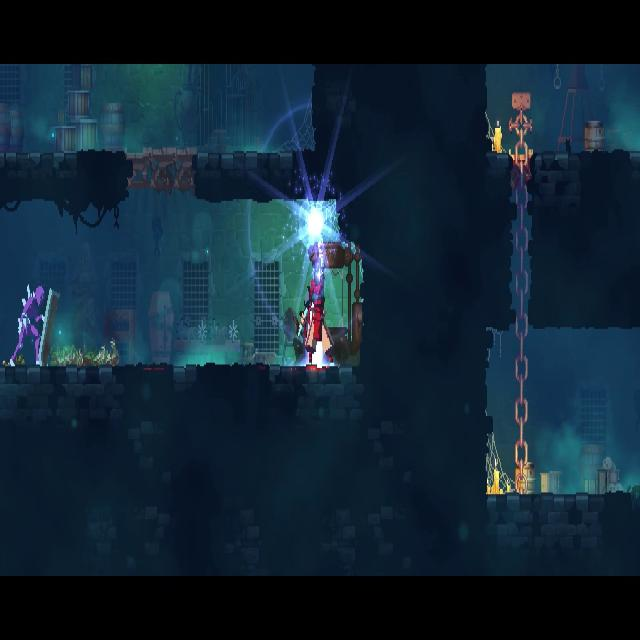agents: (299, 293, 324, 369)
enemy_purple_shield: (18, 284, 60, 368)
wood_floor: (123, 140, 195, 197)
